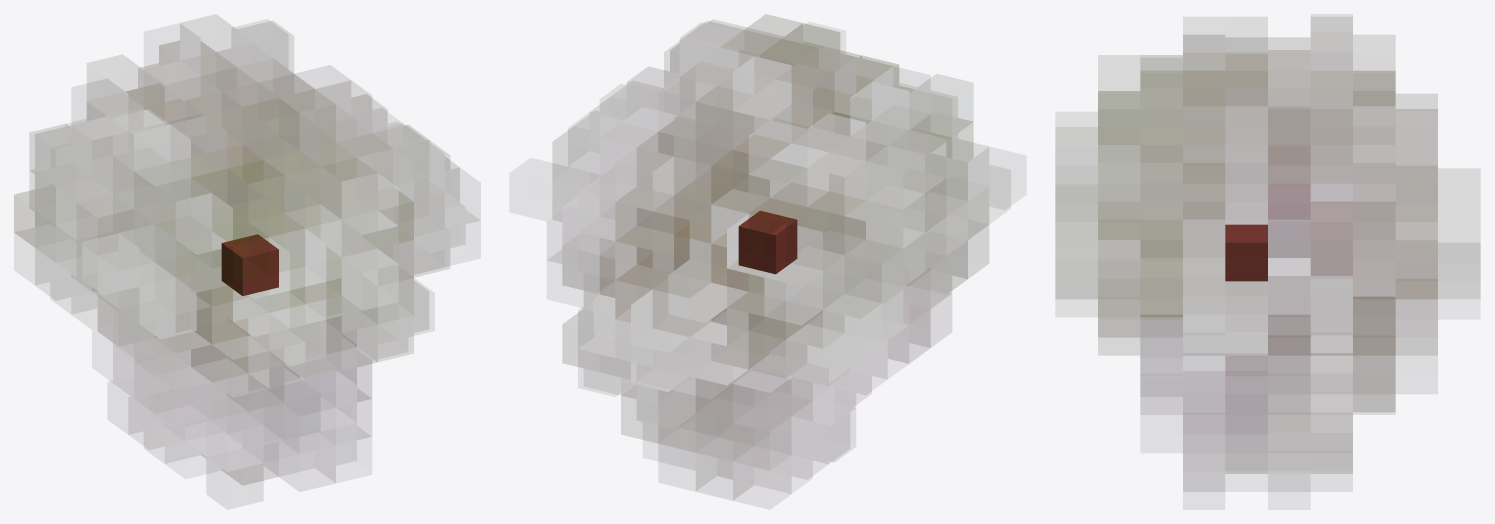
File: iter_10.obj
3 renders of one model, left to right at view 1: azimuth 30°, elevation 25°; view 2: azimuth 150°, elevation 25°; view 3: azimuth 270°, elevation 25°, orthographic. The views are drawn at different scales.
Parts seen in each view (by area): view 1: iter_10; view 2: iter_10; view 3: iter_10.
Boxes of the visible parts, box(x1,y1,x2,y2) form: iter_10: box(14, 21, 479, 485); iter_10: box(547, 14, 1010, 500); iter_10: box(1055, 17, 1479, 491).
Bounding box in the file's own units: 1.1 × 1.1 × 1.
